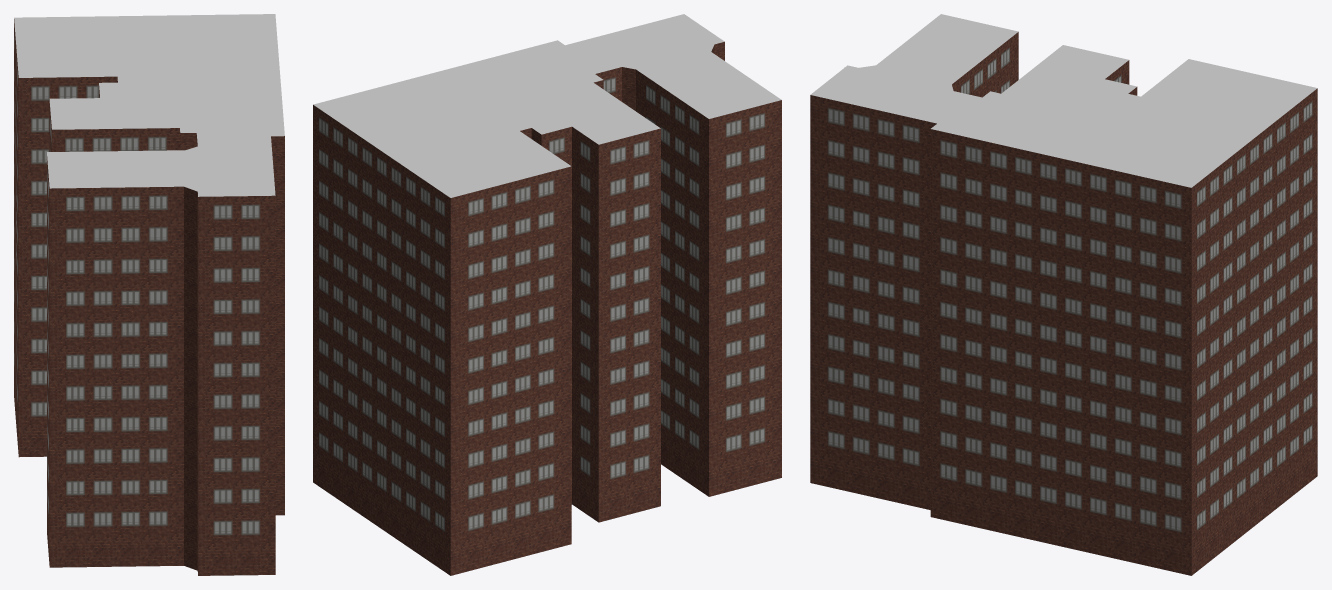
File: building-0-0-762.dae
3 views of the same model, side by side, from view 1: azimuth 30°, elevation 25°; view 2: azimuth 150°, elevation 25°; view 3: azimuth 270°, elevation 25° (orthographic). The views are drawn at different scales.
Parts seen in each view (by area): view 1: geopipeinodeiEarsnhi (×3); view 2: geopipeinodeiEarsnhi (×3); view 3: geopipeinodeiEarsnhi (×3).
Boxes of the visible parts, box(x1,y1,x2,y2) form: geopipeinodeiEarsnhi (×3): box(14, 14, 284, 575); geopipeinodeiEarsnhi (×3): box(313, 14, 781, 575); geopipeinodeiEarsnhi (×3): box(810, 14, 1317, 575).
Bounding box in the file's own units: 44.4 × 54.76 × 46.2.
